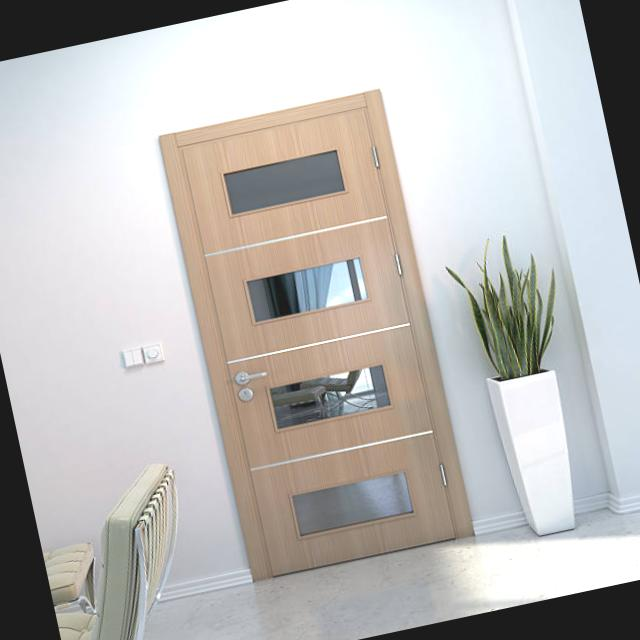door: (158, 88, 476, 584)
